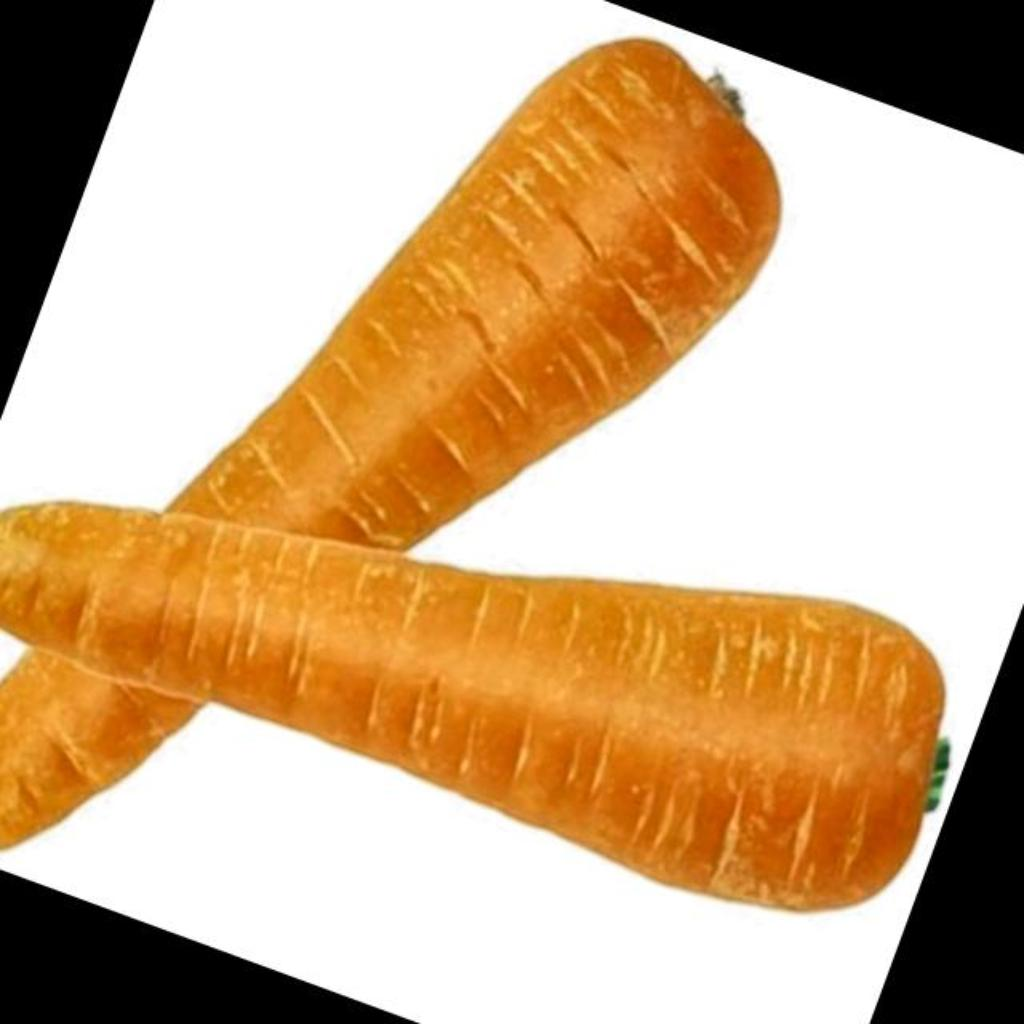carrot: (0, 40, 780, 859), (0, 504, 944, 907)
